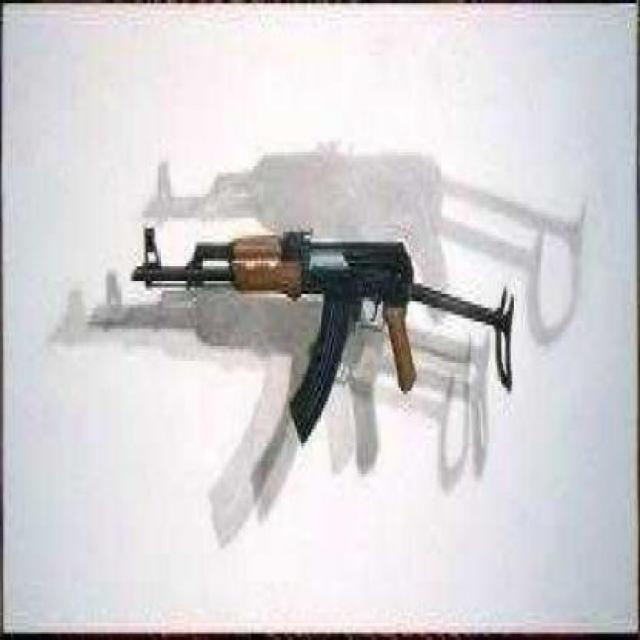weapon: (133, 222, 520, 442)
